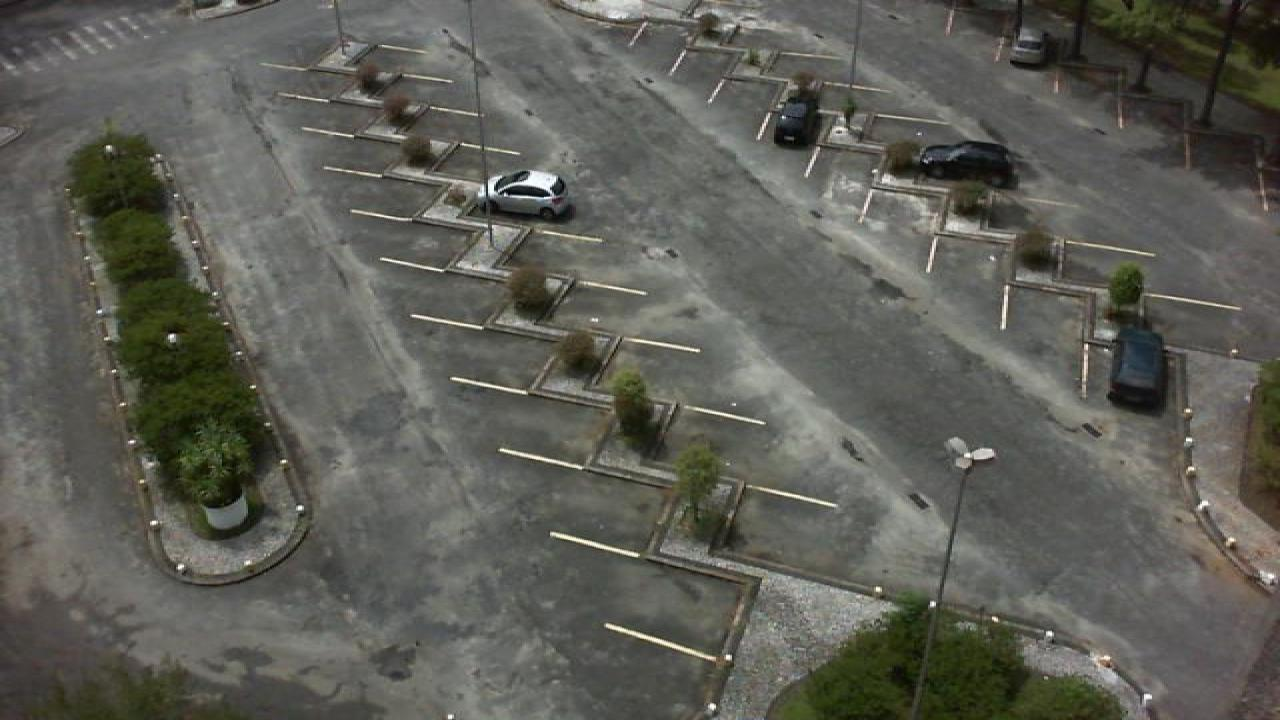Car: (1106, 323, 1170, 411), (482, 168, 574, 220), (916, 140, 1018, 185), (772, 92, 820, 148), (1008, 26, 1050, 67)
